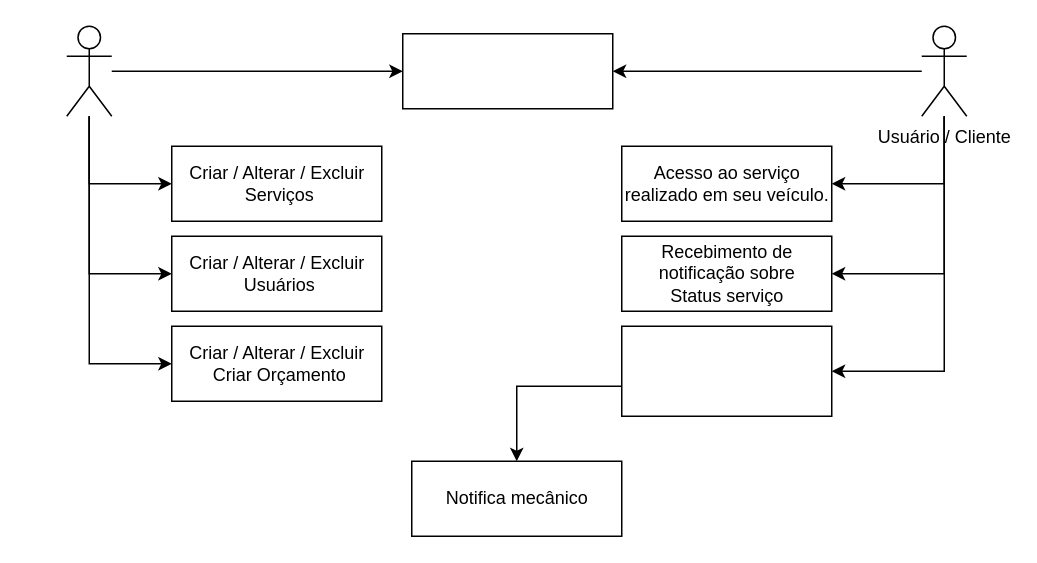
The diagram is 1037 pixels wide and 563 high, and some of its shapes have lost their labels. The shapes that lost their labels are listed below. From the top down, each one's centre as x and y in pixels, then its label:
At [88,70]: "Mecânico / Adm".
At [507,70]: "Aceitar / Recusar Serviço".
At [726,370]: "Cria Pré-Orçamento. Visualiza valores base para determinados serviços".
